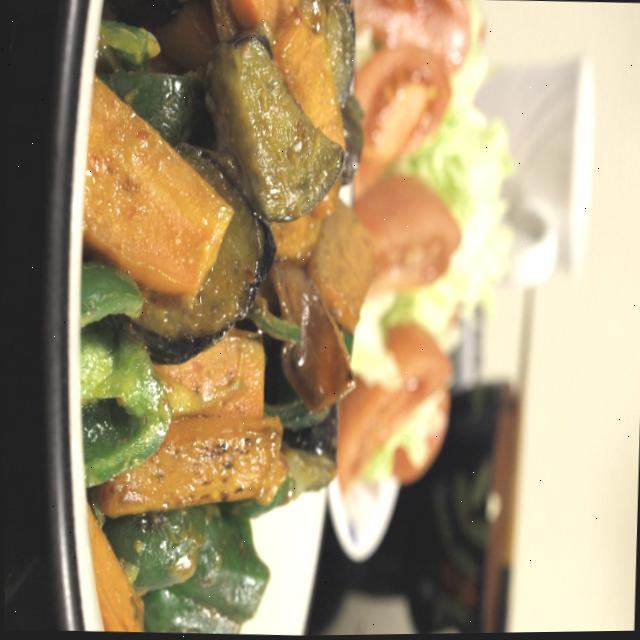鸡蛋料理: (63, 0, 380, 639)
